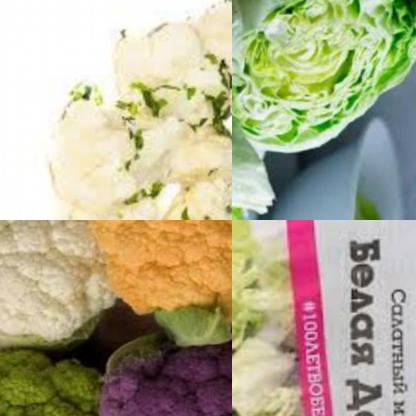cayliflower: (26, 0, 232, 220), (85, 220, 232, 341), (0, 220, 114, 359), (91, 337, 232, 416)
salad: (232, 0, 416, 161), (232, 220, 296, 416), (232, 61, 275, 220), (350, 186, 412, 220)
